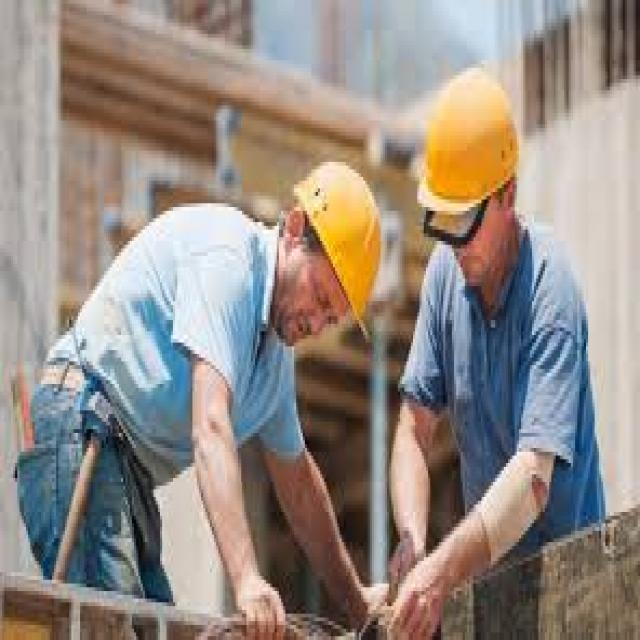Safety-Helmet: (288, 150, 387, 342), (409, 60, 523, 222)
